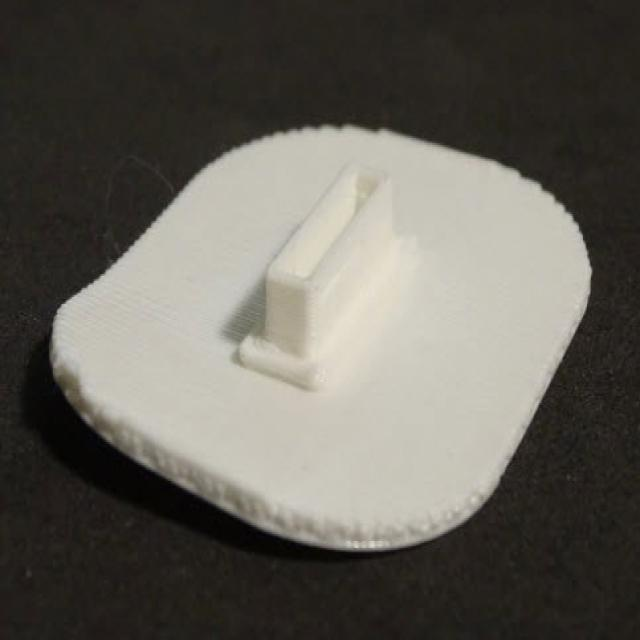Warping: (45, 311, 342, 551)
